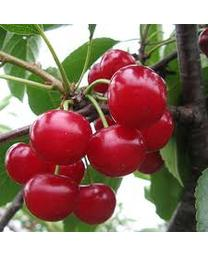cherry: (108, 63, 168, 128), (30, 110, 92, 165), (87, 123, 146, 177), (24, 173, 79, 223), (5, 142, 56, 185), (70, 182, 116, 226)
